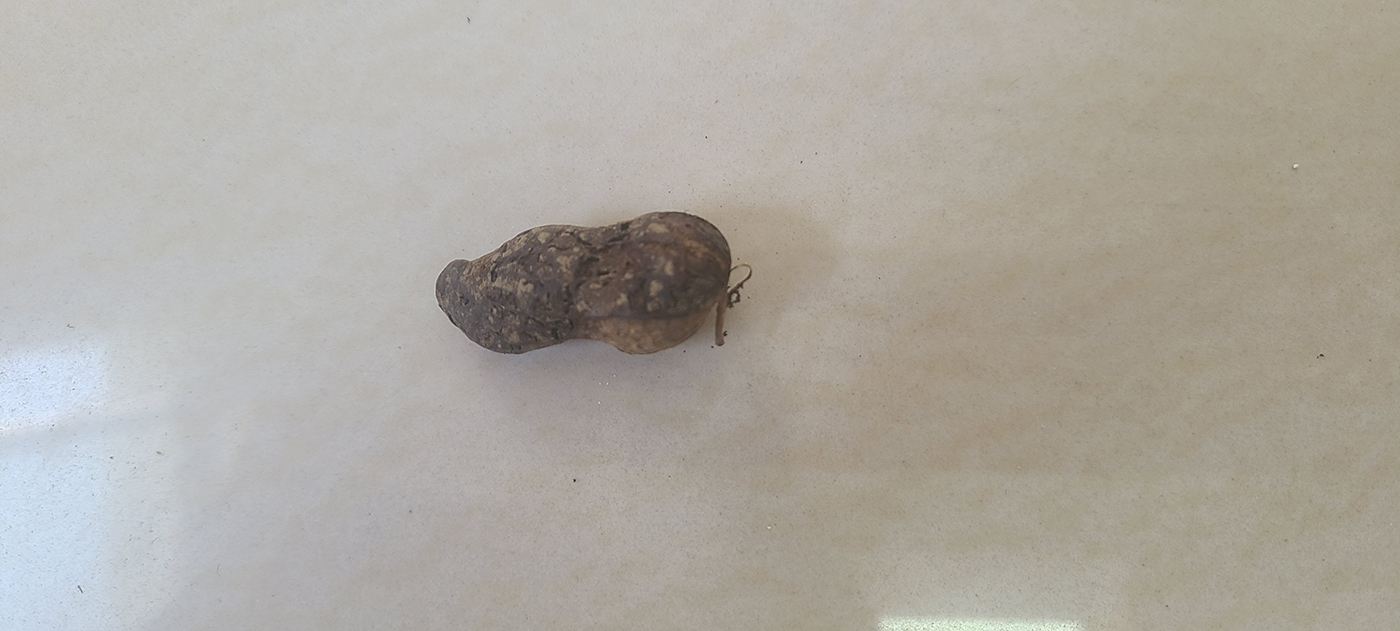l: (435, 209, 731, 355)
